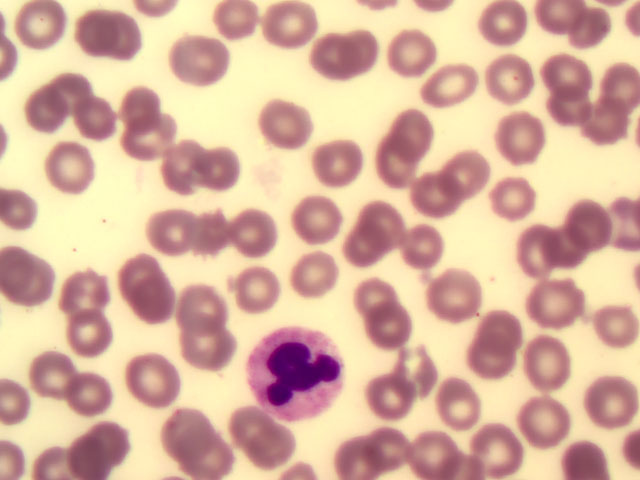RBC: (73, 92, 127, 147), (119, 80, 173, 135), (117, 109, 171, 164), (49, 138, 103, 193), (58, 267, 112, 322), (64, 301, 118, 356), (107, 248, 161, 303), (129, 273, 183, 328), (172, 278, 226, 333), (180, 315, 234, 370), (229, 262, 283, 317), (226, 205, 280, 260), (181, 206, 235, 261), (145, 201, 199, 256), (199, 140, 253, 195), (157, 140, 211, 195), (258, 96, 312, 151), (172, 33, 226, 88), (211, 2, 265, 57), (299, 29, 353, 84), (334, 22, 388, 77), (387, 20, 441, 75), (419, 54, 473, 109), (388, 97, 442, 152), (365, 136, 419, 191), (301, 137, 355, 192), (294, 189, 348, 244), (288, 248, 342, 303), (331, 221, 385, 276), (354, 195, 408, 250), (387, 218, 441, 273), (408, 168, 462, 223), (443, 139, 497, 194), (483, 171, 537, 226), (494, 107, 548, 162), (489, 56, 543, 111), (476, 1, 530, 56), (539, 48, 593, 103), (544, 78, 598, 133), (563, 200, 617, 255), (546, 224, 600, 279), (516, 227, 570, 282), (433, 272, 487, 327), (366, 305, 420, 360), (347, 275, 401, 330), (362, 369, 416, 424), (429, 378, 483, 433), (386, 343, 440, 398), (467, 337, 521, 392), (484, 303, 538, 358), (523, 339, 577, 394), (530, 275, 584, 330), (586, 300, 640, 355), (586, 372, 640, 427), (521, 395, 575, 450), (477, 425, 531, 480), (408, 425, 462, 480), (363, 425, 417, 480), (323, 425, 377, 480), (246, 425, 300, 480), (222, 400, 276, 455), (160, 404, 214, 459), (126, 356, 180, 411), (63, 369, 117, 424), (28, 343, 82, 398), (64, 422, 118, 477), (260, 1, 314, 55), (1, 236, 54, 291), (106, 15, 158, 67), (51, 65, 103, 117), (22, 82, 74, 134), (16, 1, 66, 52), (67, 5, 117, 56)
WBC: (244, 324, 347, 419)
